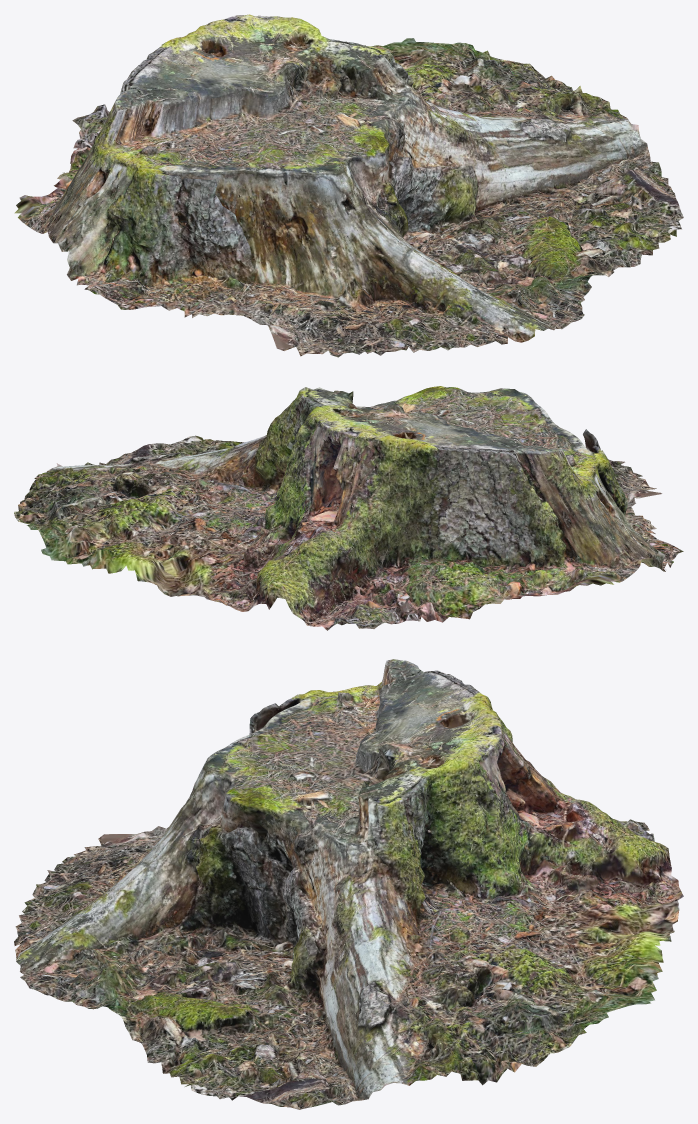
Rendered from stump.glb.
3 renders of one model, top to bottom at view 1: azimuth 30°, elevation 25°; view 2: azimuth 150°, elevation 25°; view 3: azimuth 270°, elevation 25°, orthographic. The views are drawn at different scales.
Visible parts, largest first — view 1: stump; view 2: stump; view 3: stump.
Part boxes in pixels (x1,y1,x2,y2): stump: (14, 14, 683, 357); stump: (14, 386, 683, 630); stump: (14, 659, 683, 1109).
Bounding box in the file's own units: 1 × 0.3028 × 0.8961.
Materials: 1 (1 with a texture image).
